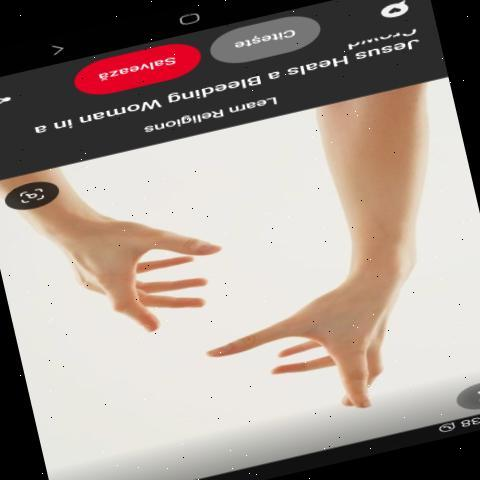Hands: (0, 167, 228, 339), (199, 248, 419, 424)
